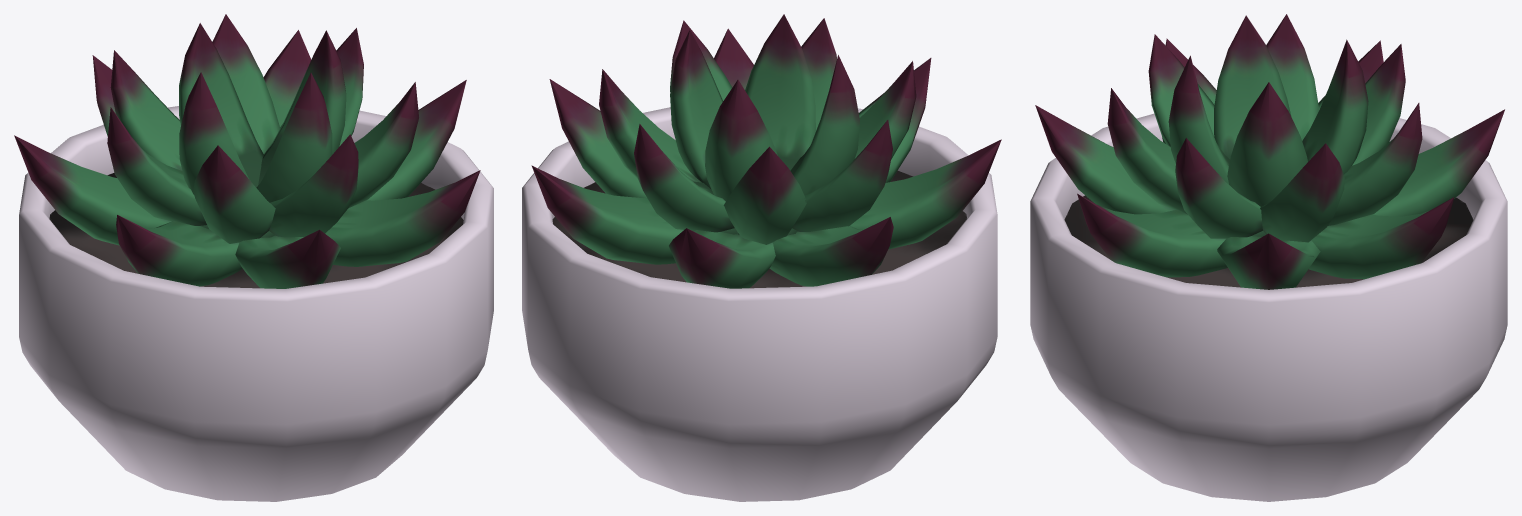
The model's file is plant_2.fbx.
The picture shows the model from 3 angles, left to right: view 1: azimuth 30°, elevation 25°; view 2: azimuth 150°, elevation 25°; view 3: azimuth 270°, elevation 25°; orthographic projection.
Visible parts, largest first — view 1: plant_pot_2, plant_2; view 2: plant_pot_2, plant_2; view 3: plant_pot_2, plant_2.
Boxes of the visible parts, box(x1,y1,x2,y2) form: plant_pot_2: box(19, 106, 493, 501); plant_2: box(14, 14, 480, 288); plant_pot_2: box(522, 107, 997, 501); plant_2: box(531, 14, 1001, 288); plant_pot_2: box(1030, 113, 1507, 501); plant_2: box(1035, 14, 1504, 289).
Size of the model in its own units: 0.151 by 0.1354 by 0.15.
